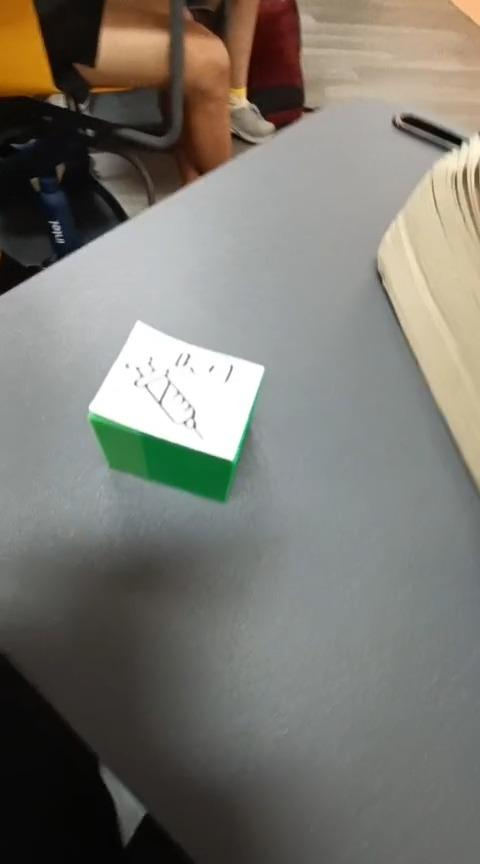antiseptic cream: (86, 318, 265, 504)
